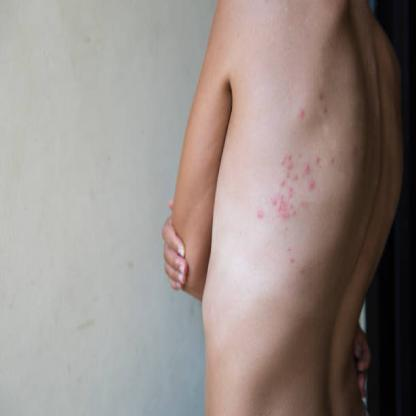Bed Bug: (267, 148, 321, 231), (317, 83, 332, 119), (285, 239, 299, 268), (295, 104, 308, 124), (327, 150, 340, 170), (350, 141, 362, 156), (255, 204, 264, 220)
